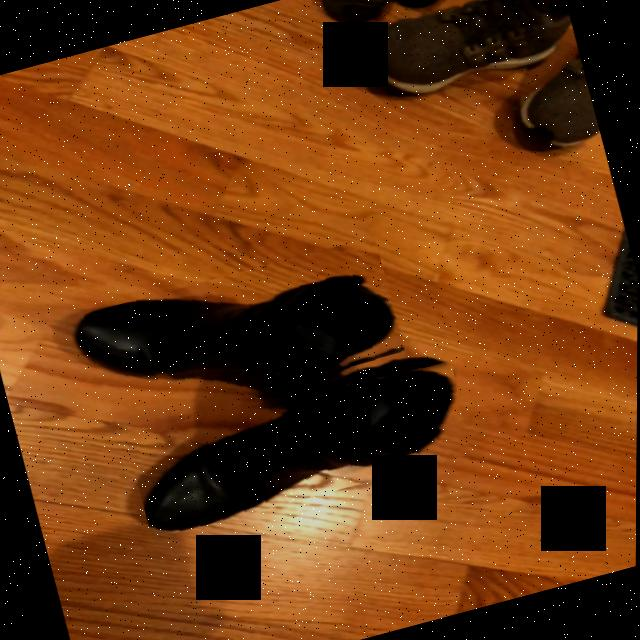shoe: (144, 368, 458, 533), (76, 277, 398, 388)
